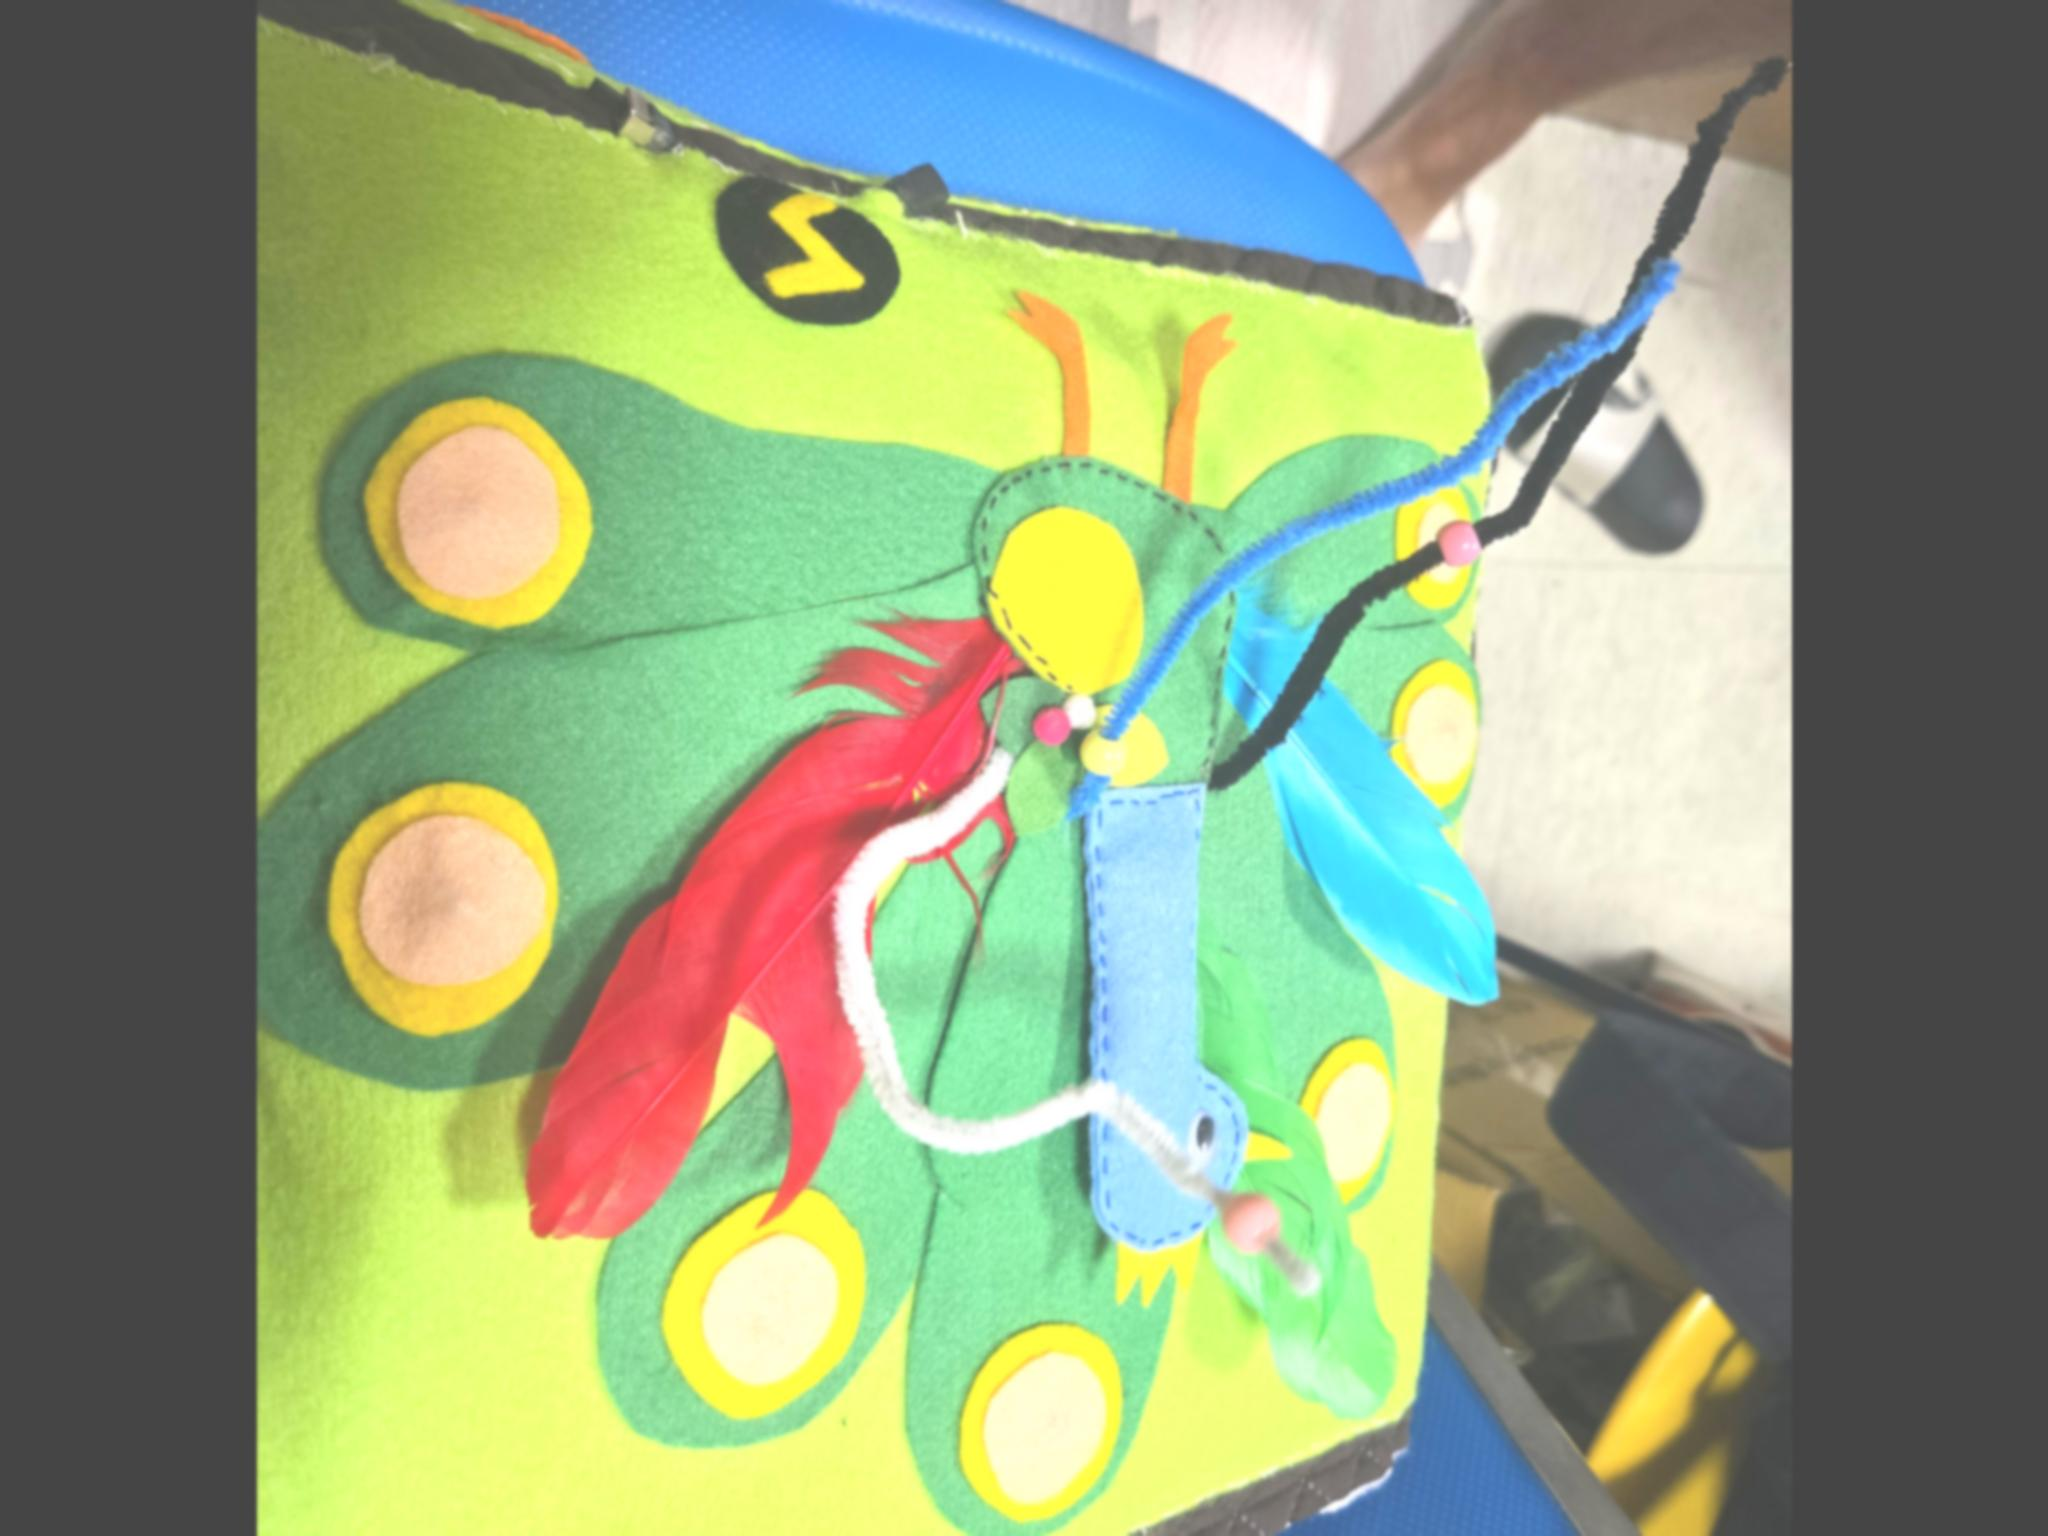bead: (1214, 1176, 1292, 1279), (1066, 715, 1147, 786), (1427, 510, 1503, 581)
